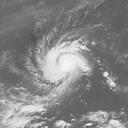cyclone: (36, 34, 94, 88)
